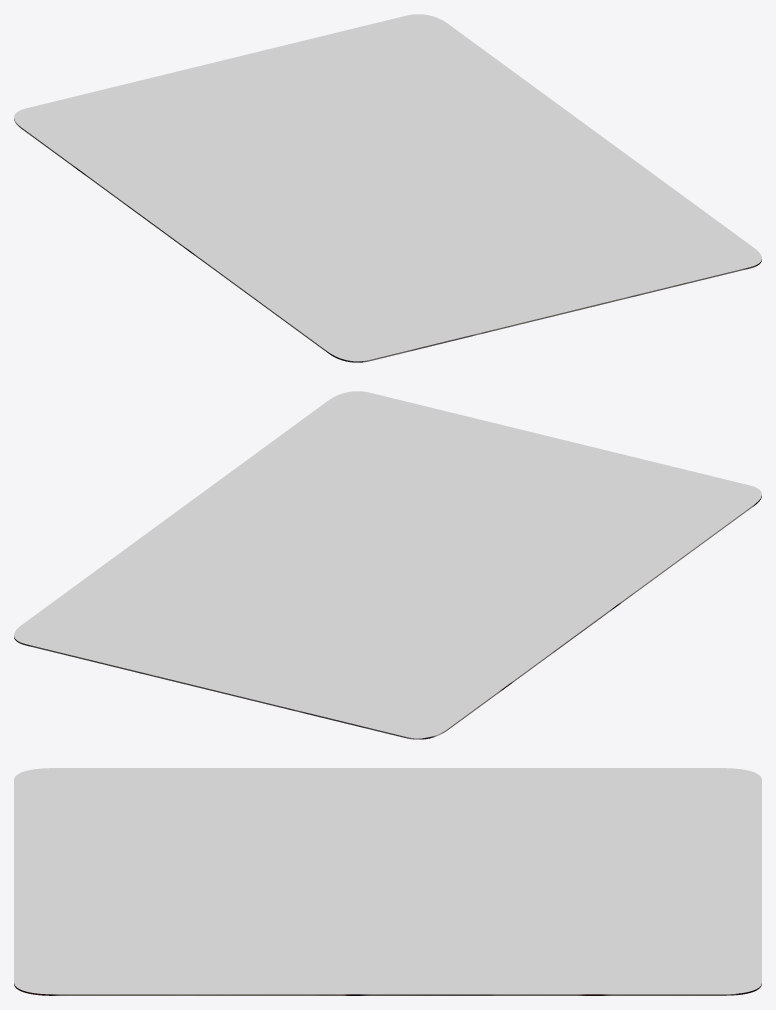
File: placeholders.fbx
The picture shows the model from 3 angles, top to bottom: view 1: azimuth 30°, elevation 25°; view 2: azimuth 150°, elevation 25°; view 3: azimuth 270°, elevation 25°; orthographic projection. The views are drawn at different scales.
Visible parts, largest first — view 1: Plane; view 2: Plane; view 3: Plane.
Boxes of the visible parts, <box> form: Plane: <box>14,14,761,362</box>; Plane: <box>14,391,761,739</box>; Plane: <box>14,768,761,995</box>.
Size of the model in its own units: 63 by 0.2 by 88.
2 materials, 1 textured.
